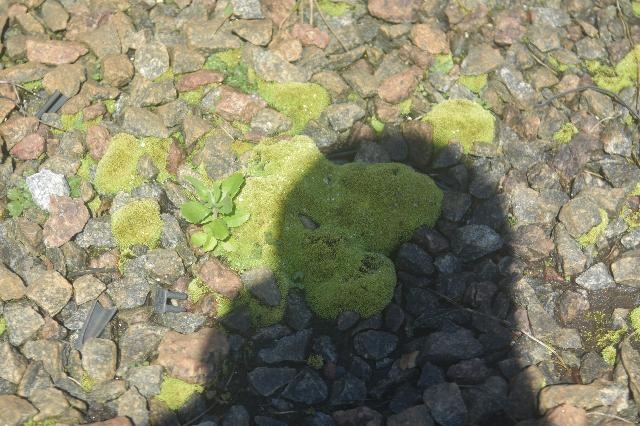MalezaMontesDelPlata: (182, 171, 245, 259)
MusgoMontesDelPlata: (244, 133, 444, 323), (334, 159, 443, 252), (77, 126, 186, 199), (302, 252, 398, 326), (245, 66, 333, 131), (419, 93, 495, 156), (106, 198, 165, 276), (246, 135, 332, 183), (594, 299, 640, 369), (577, 44, 640, 95), (187, 274, 244, 323), (559, 204, 614, 254), (150, 372, 207, 414), (238, 289, 291, 329), (204, 38, 243, 74), (546, 117, 583, 150), (455, 71, 490, 94)
